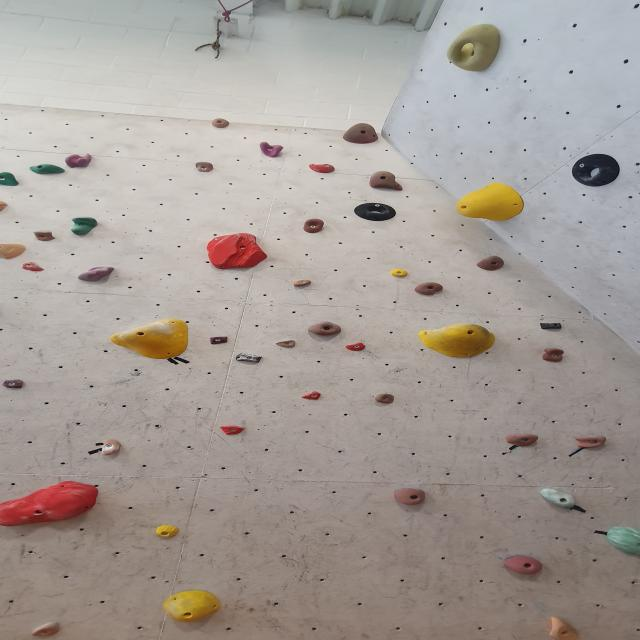Crimp: (28, 622, 64, 640), (0, 242, 28, 261), (153, 524, 183, 540), (216, 424, 246, 437), (307, 164, 338, 176), (0, 378, 27, 391), (21, 262, 46, 274), (343, 342, 368, 354), (387, 268, 412, 280), (299, 391, 326, 402), (208, 337, 231, 348), (275, 340, 300, 350), (290, 279, 313, 288), (0, 200, 11, 214)
Jug: (445, 23, 505, 73), (502, 555, 546, 576), (368, 171, 406, 192), (390, 488, 429, 507), (66, 216, 100, 237), (26, 160, 65, 176), (502, 432, 542, 447), (307, 321, 344, 337), (573, 436, 608, 452), (473, 254, 504, 271), (97, 440, 125, 458), (412, 281, 445, 296), (256, 142, 286, 158), (301, 217, 328, 234), (538, 347, 566, 363), (30, 230, 57, 243), (190, 162, 216, 175), (0, 171, 20, 187), (372, 392, 398, 404), (208, 117, 232, 130), (220, 12, 233, 22)
Pinch: (539, 487, 578, 510), (544, 617, 583, 640), (75, 266, 116, 285), (63, 155, 94, 171), (234, 352, 265, 365), (538, 319, 564, 332)
Pocket: (568, 156, 625, 188), (354, 202, 397, 222)
Sloper: (0, 482, 103, 526), (106, 321, 191, 362), (454, 181, 527, 222), (416, 323, 499, 359), (206, 233, 270, 271), (160, 590, 223, 624), (605, 526, 640, 558), (339, 124, 380, 146)
